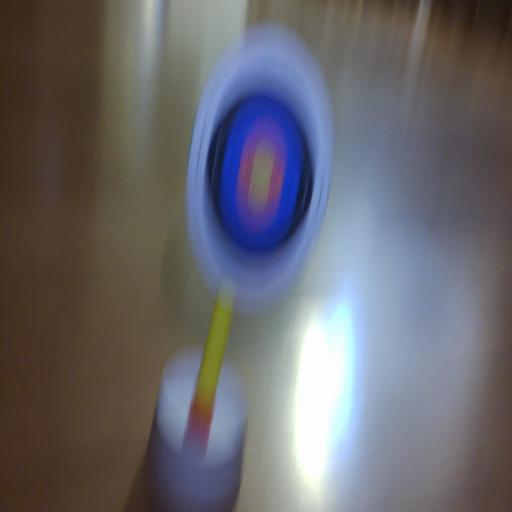target: (187, 24, 333, 308)
